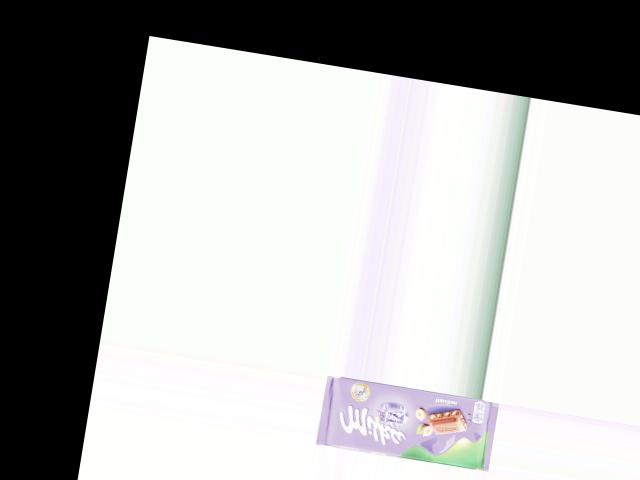chocolate: (316, 373, 500, 471)
